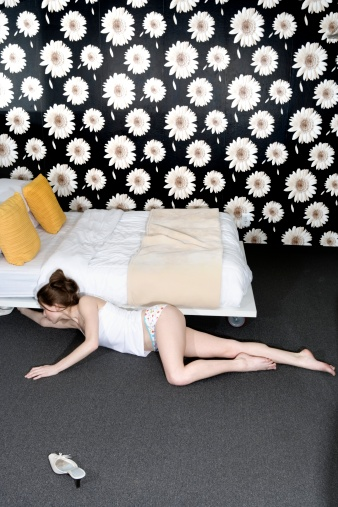deitado: (0, 215, 338, 421)
